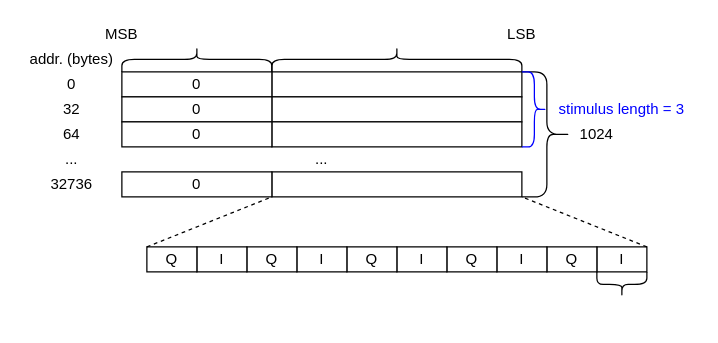
Image size: 718x343. Some labels were removed from this diagram. Here are the shapes that lost their labels. From the top down, the centre of each, then its label:
At point 196,59: "96 bits".
At point 396,59: "160 bits".
At point 621,284: "16 bits".
